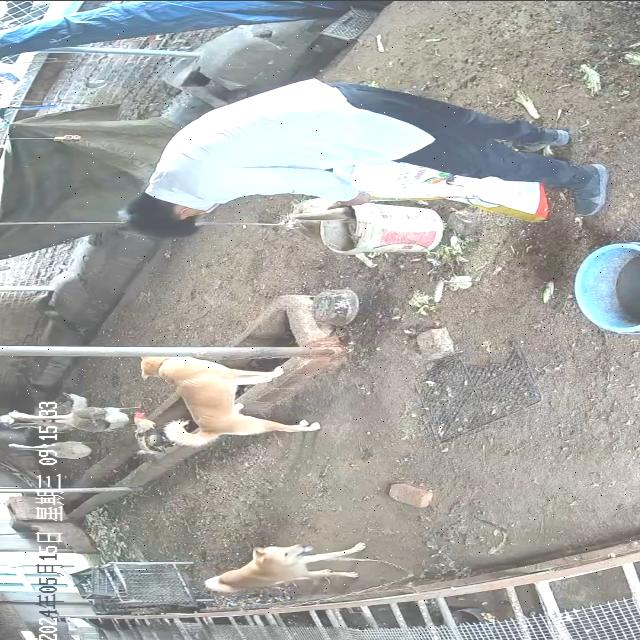dog: (139, 356, 323, 448), (204, 542, 370, 594)
